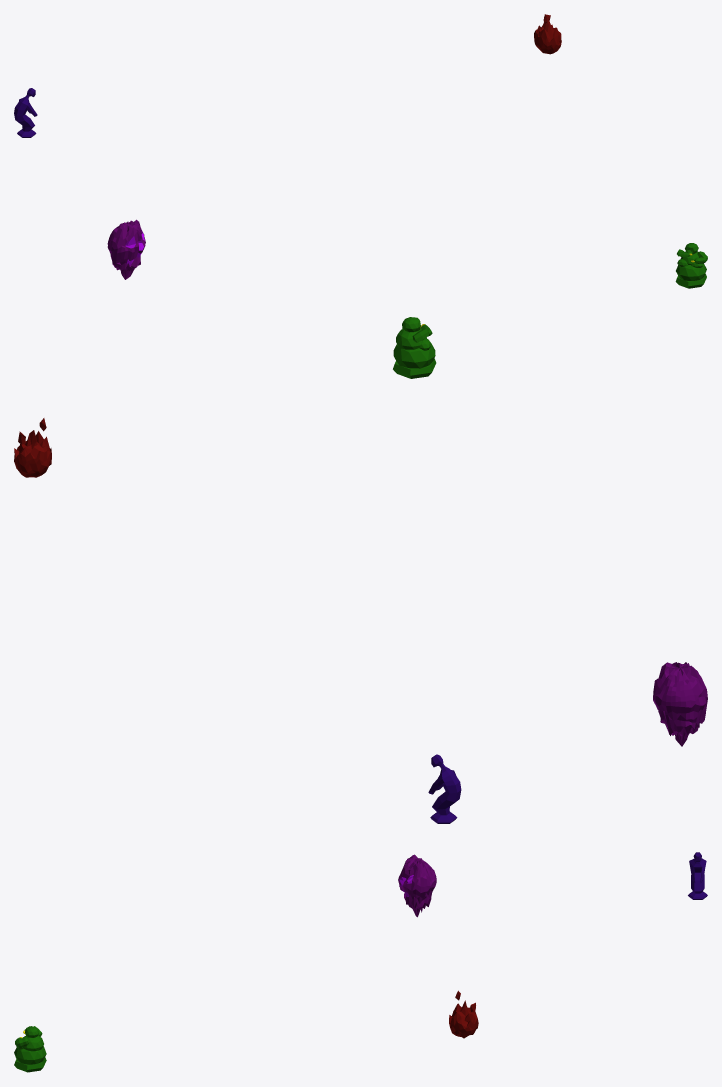
Rendered from crystals.fbx.
3 renders of one model, top to bottom at view 1: azimuth 30°, elevation 25°; view 2: azimuth 150°, elevation 25°; view 3: azimuth 270°, elevation 25°, orthographic. The views are drawn at different scales.
Visible parts, largest first — view 1: crystal_purple_pride, crystal_green_greed, crystal_red_wrath, crystal_blue_despair; view 2: crystal_purple_pride, crystal_green_greed, crystal_red_wrath, crystal_blue_despair; view 3: crystal_purple_pride, crystal_green_greed, crystal_red_wrath, crystal_blue_despair.
Boxes of the visible parts, x1,y1,x2,y2 form: crystal_purple_pride: (107,219,145,279); crystal_green_greed: (675,243,707,288); crystal_red_wrath: (534,14,561,54); crystal_blue_despair: (14,88,37,137); crystal_purple_pride: (653,662,707,746); crystal_green_greed: (393,317,436,378); crystal_red_wrath: (14,418,51,477); crystal_blue_despair: (428,754,461,823); crystal_purple_pride: (398,854,436,917); crystal_green_greed: (14,1026,46,1072); crystal_red_wrath: (449,990,478,1038); crystal_blue_despair: (688,852,707,899).
Bounding box in the file's own units: 42.44 × 12.35 × 51.93.
